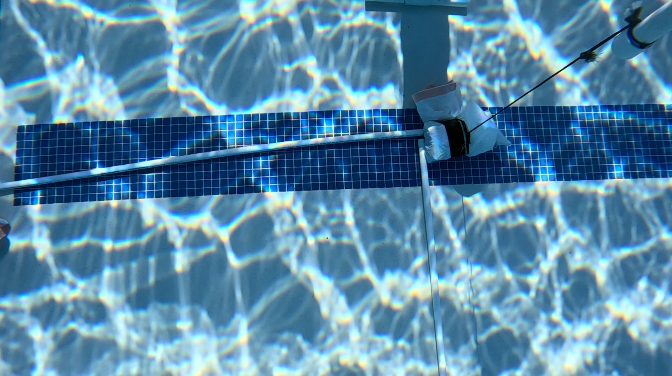sandbag: (407, 79, 507, 159)
